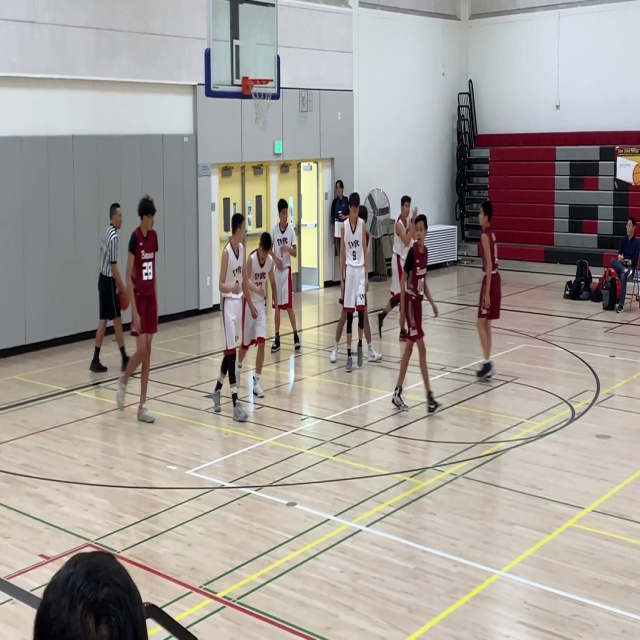Basketball: (117, 287, 130, 310)
